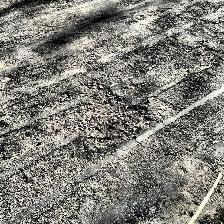pothole: (80, 84, 149, 148)
